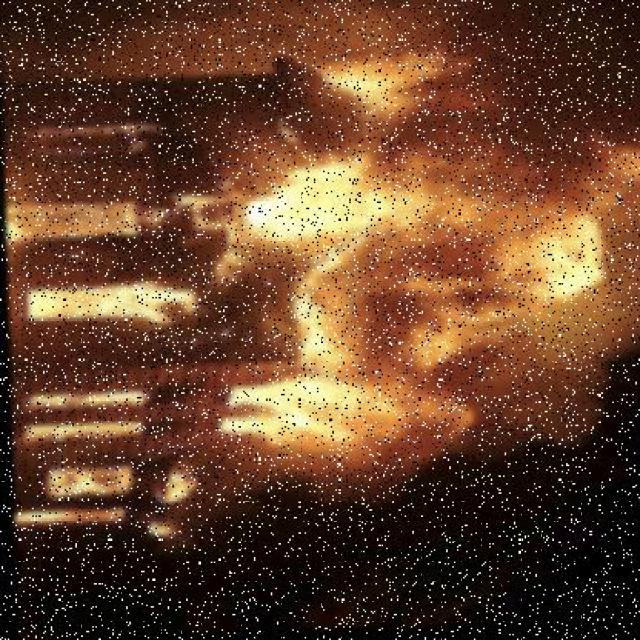fire: (247, 44, 640, 487)
